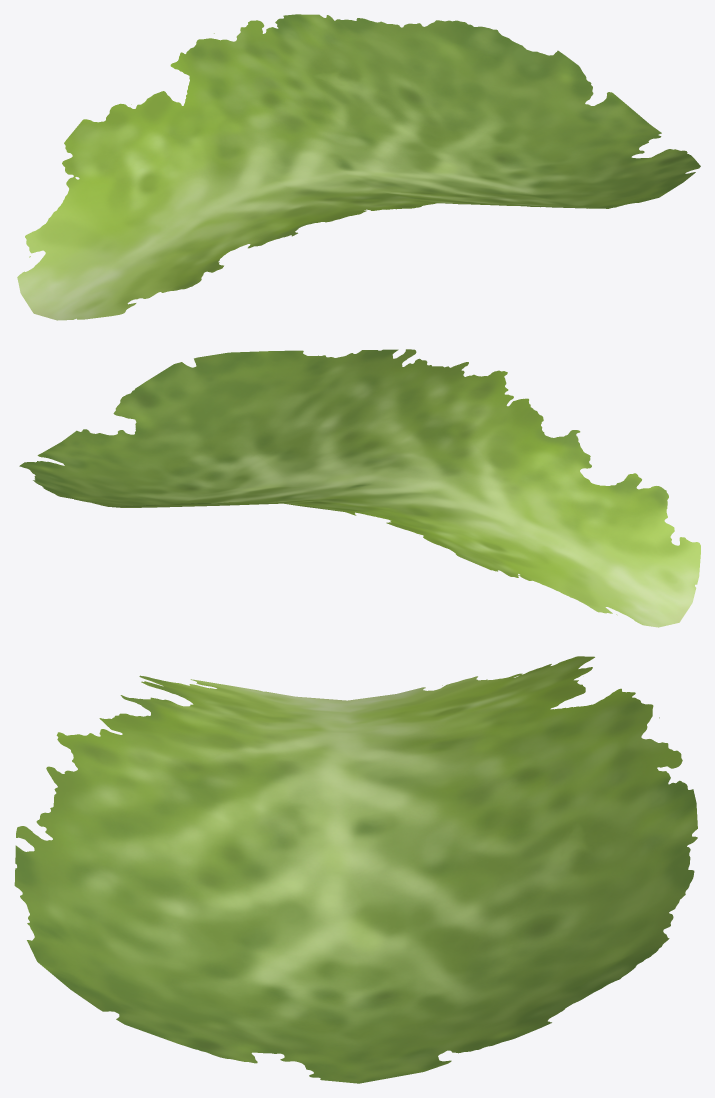
The model's file is LettuceLeaf.fbx.
3 views of the same model, one above another, from view 1: azimuth 30°, elevation 25°; view 2: azimuth 150°, elevation 25°; view 3: azimuth 270°, elevation 25° (orthographic). The views are drawn at different scales.
Visible parts, largest first — view 1: LettuceLeaf; view 2: LettuceLeaf; view 3: LettuceLeaf.
Part boxes in pixels (box(x1,y1,x2,y2)): LettuceLeaf: box(17, 14, 700, 320); LettuceLeaf: box(19, 349, 700, 627); LettuceLeaf: box(14, 656, 697, 1083).
Bounding box in the file's own units: 1286 × 265 × 863.
